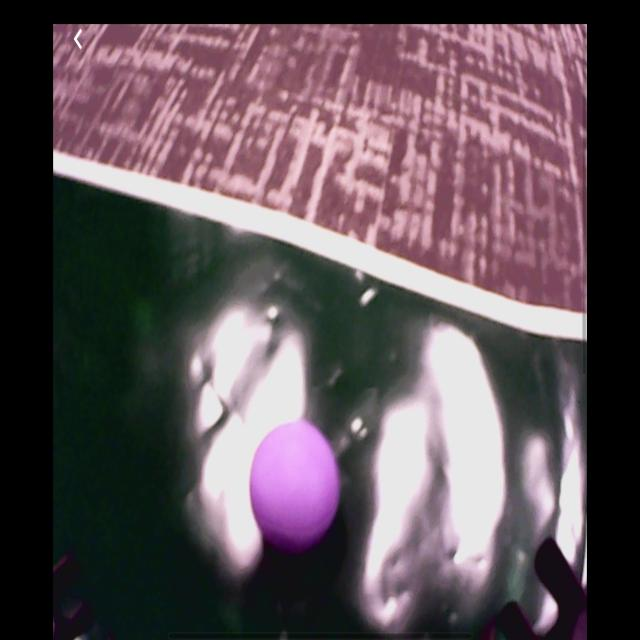ball: (251, 422, 342, 548)
